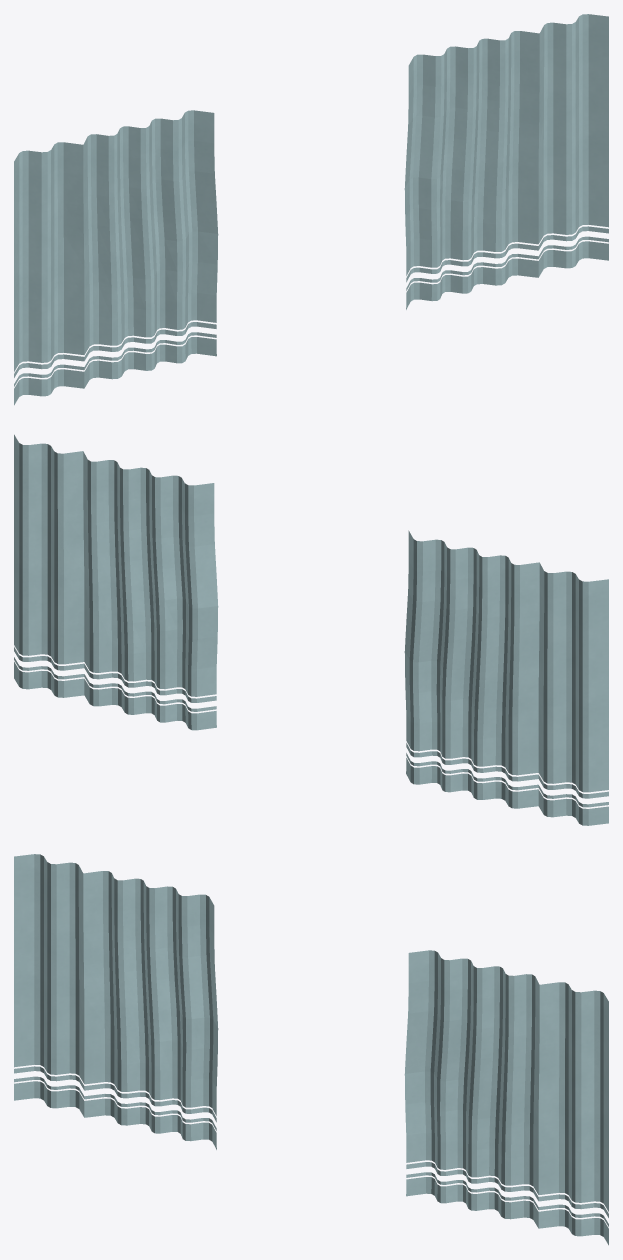
File: resto_ni_teo_3.obj
The picture shows the model from 3 angles, top to bottom: view 1: azimuth 30°, elevation 25°; view 2: azimuth 150°, elevation 25°; view 3: azimuth 330°, elevation 25°; orthographic projection.
Bounding box in the file's own units: 9.09 × 3.57 × 0.2329.
